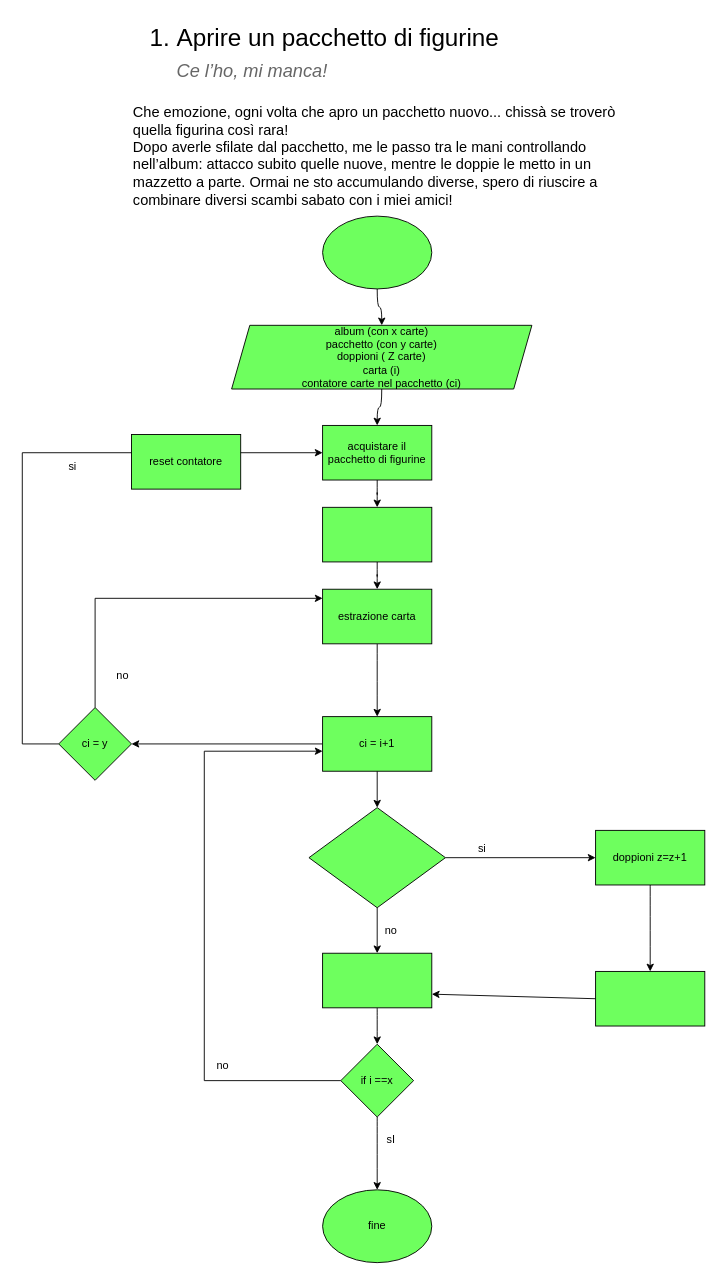
This 721x1279 diagram has some shape labels left out. The centre of each missing label's shape, as x and y in pixels:
aprire il pacchetto (y) acquistato: (377,534)
if i == album(x): (376,857)
inizio: (377,252)
scambi con amici: (650,998)
x = x+1: (377,980)
